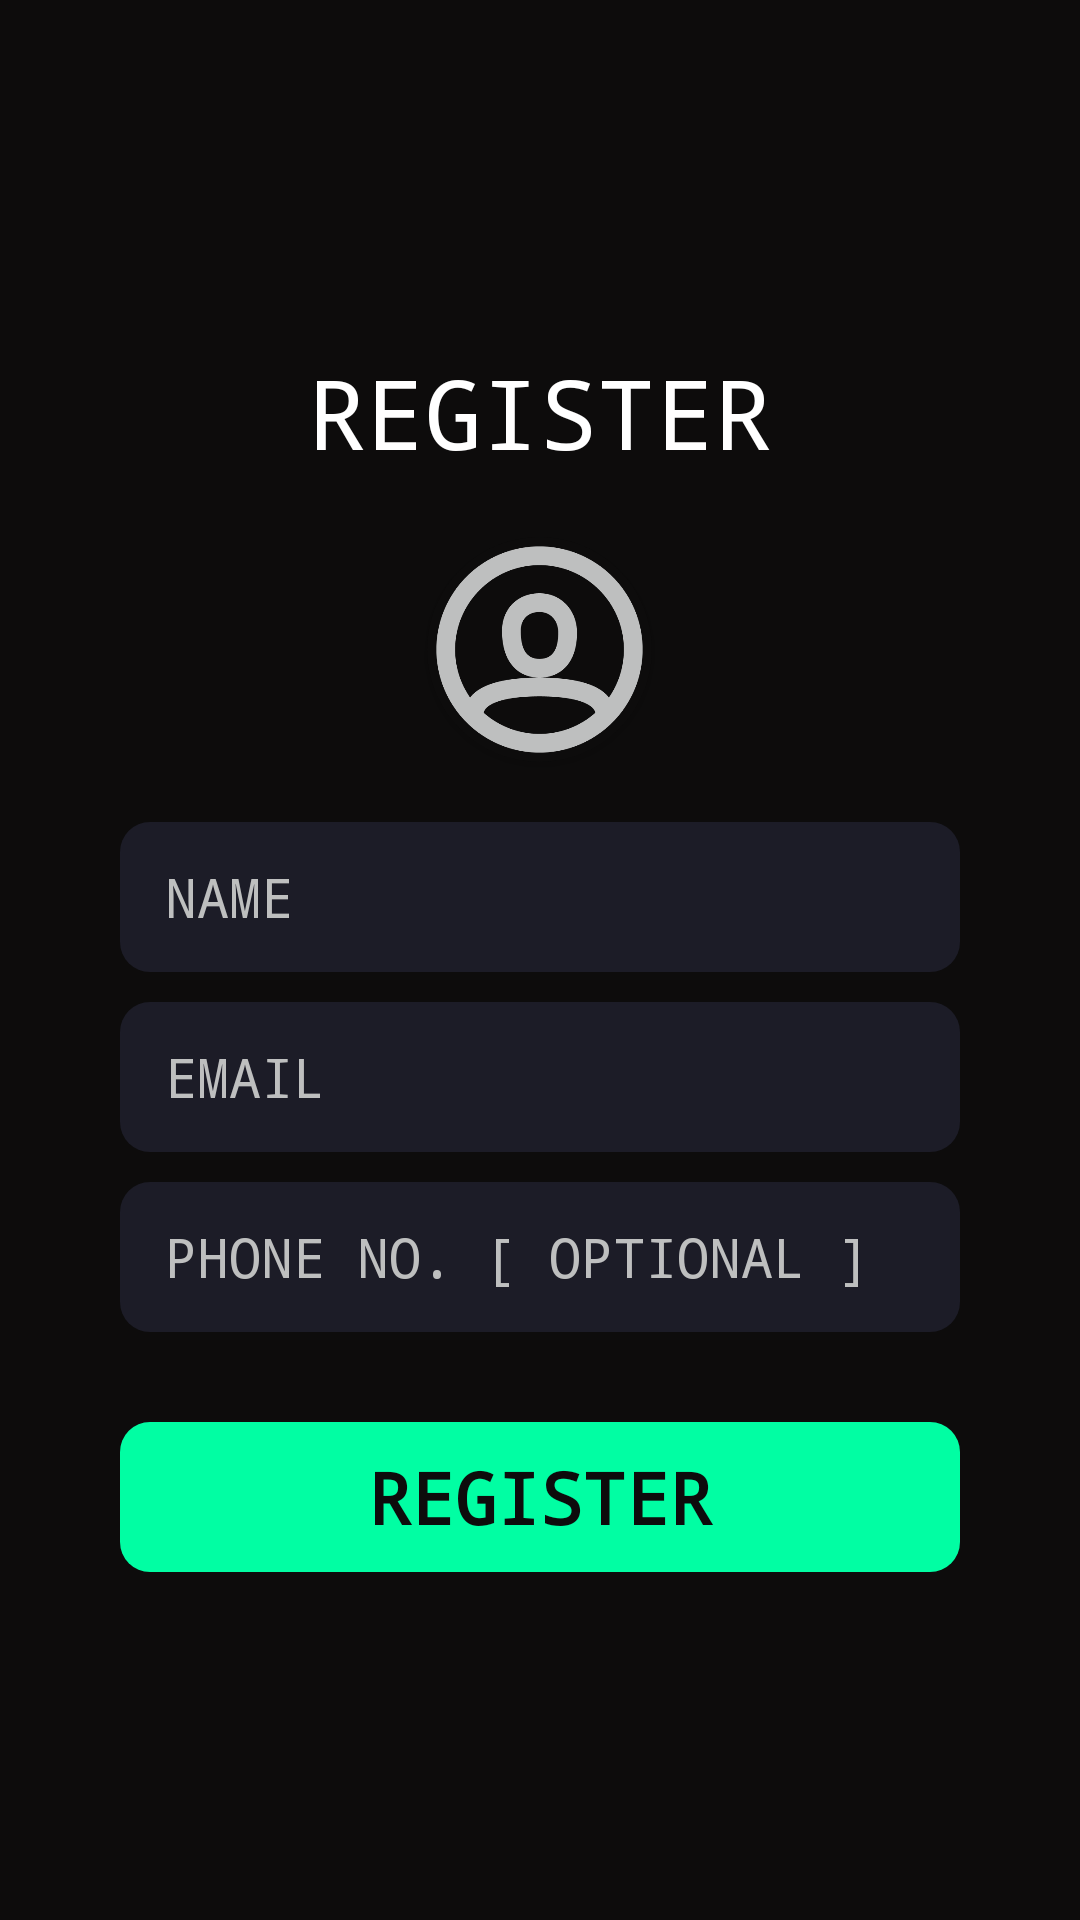

Icons on this 1080 x 1920 Android screen, each with the point to tap as point (x, y):
user: point (539, 649)
